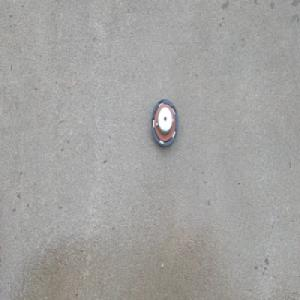FuelCap: (150, 97, 179, 149)
